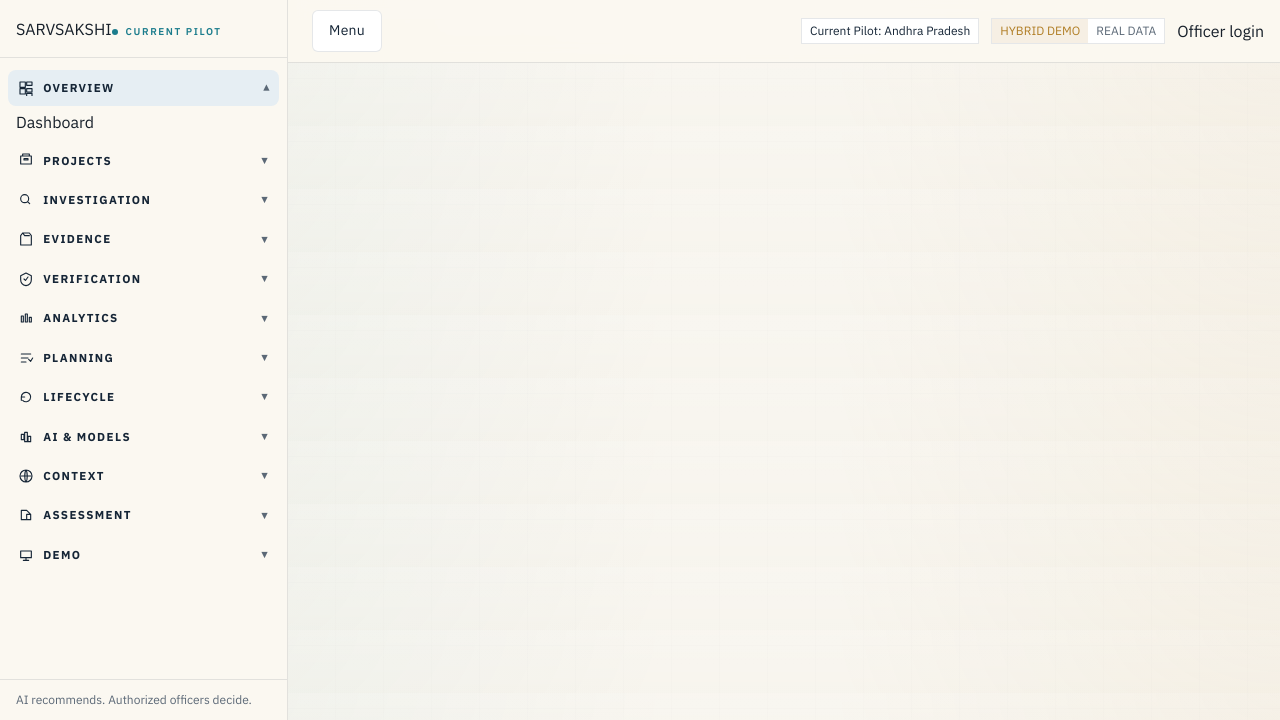
Test: Final UI/UX product refinement V4 › expands a sidebar section to reveal children
The image size is (1280, 720).
Click the button "ANALYTICS ▾": (81, 318) top-left (8, 300), bottom-right (279, 336)
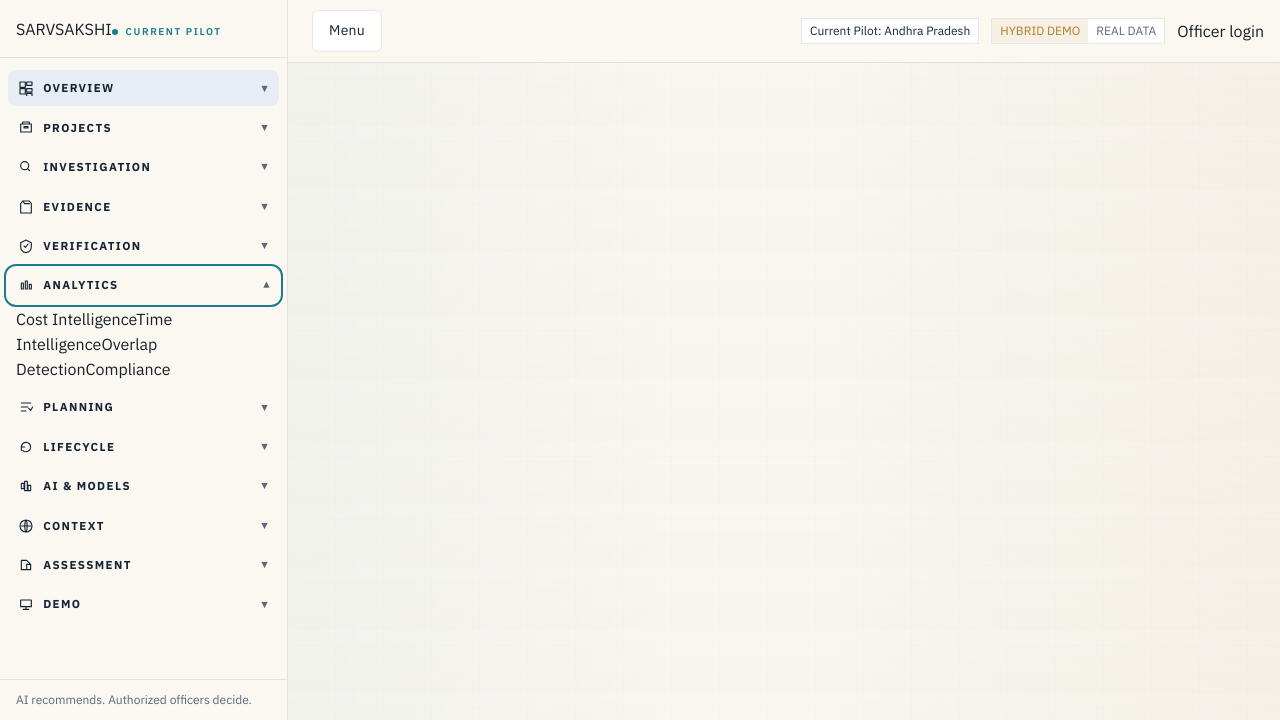
Result: the link "Cost Intelligence" is shown at top-left (16, 309), bottom-right (136, 329)
Result: the link "Overlap Detection" is shown at top-left (16, 334), bottom-right (157, 379)
